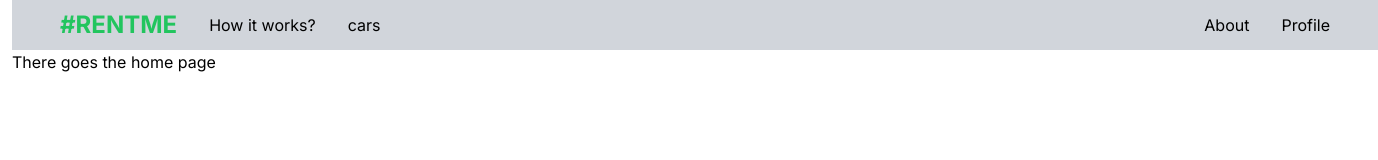
Test: Layout › renders How it works page when user clicks on How it works link
The image size is (1378, 160).
Click the link with test id "how-it-works-link" at (263, 25), box [209, 13, 316, 37]
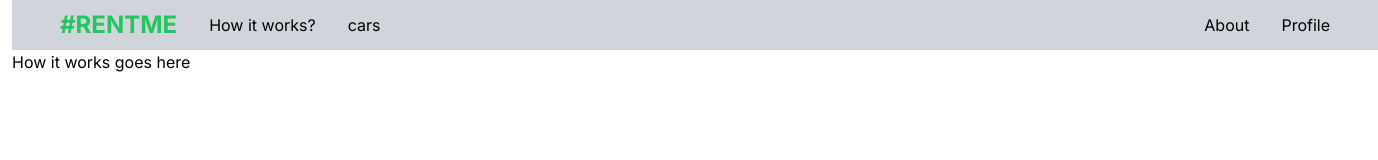
Expected: the text "How it works goes here" is shown, [12, 52, 190, 72]
